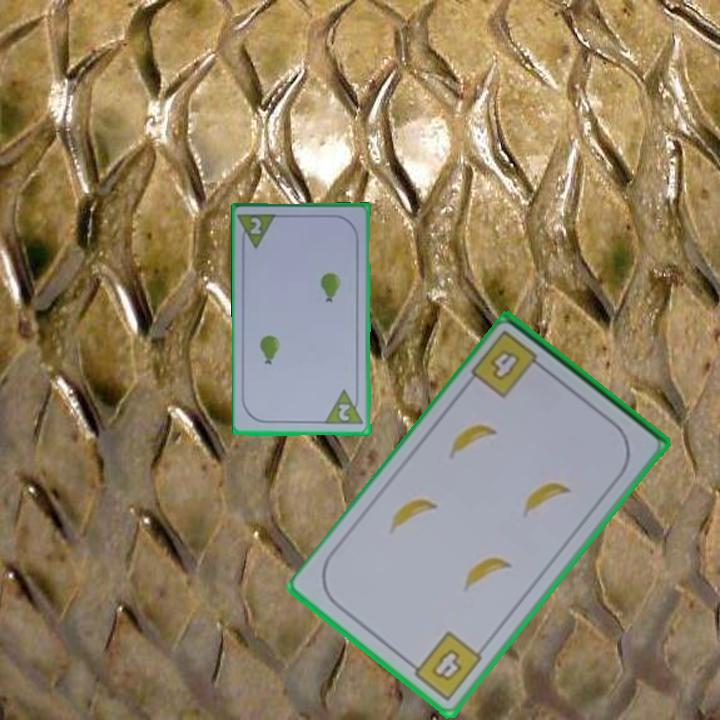2p: (236, 210, 280, 252), (323, 387, 366, 428)
4b: (404, 627, 486, 704), (468, 327, 550, 401)
